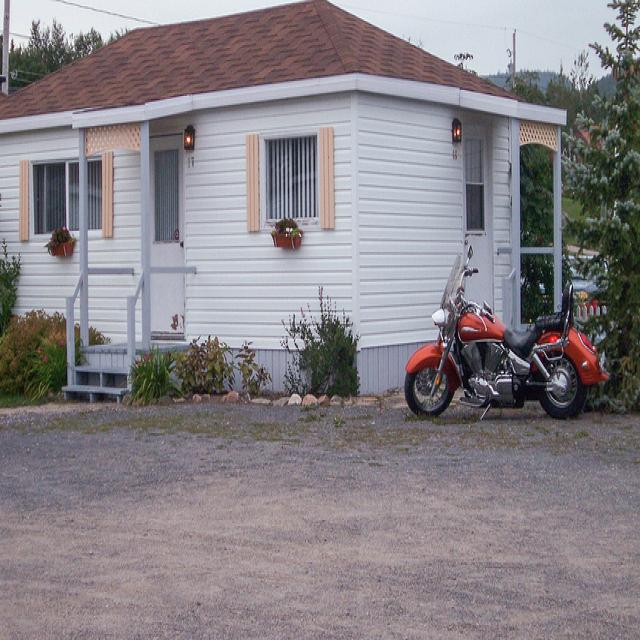motor: (404, 243, 609, 421)
